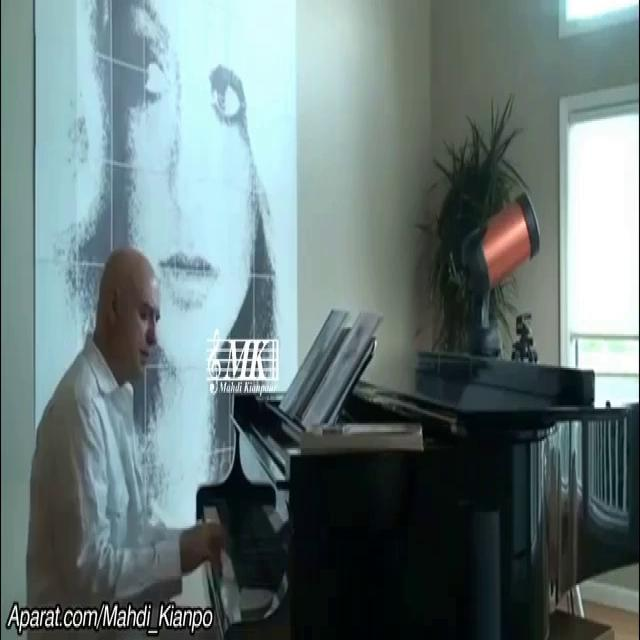Piano: (199, 476, 294, 630)
